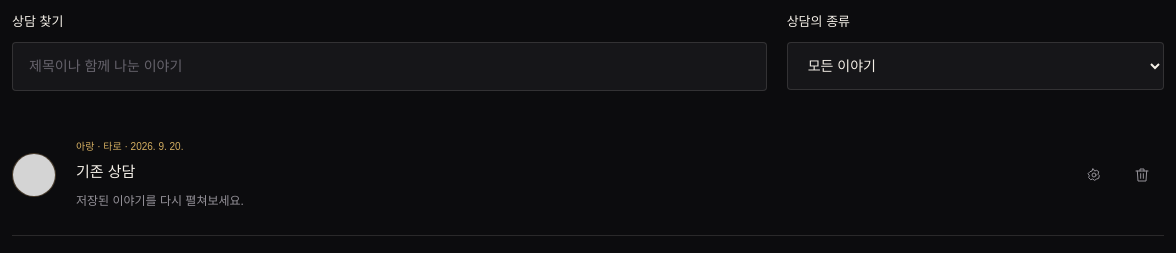
Scenario: paginated saved history › starts a fresh server search and type filter with no old cursor
Expected: the heading "기존 상담" is shown, [76,162,135,180]
Type "오래된_% 이야기" into the search field labelled "상담 찾기".
click(389, 66); type("오래된_% 이야기")  # box [12,42,767,90]
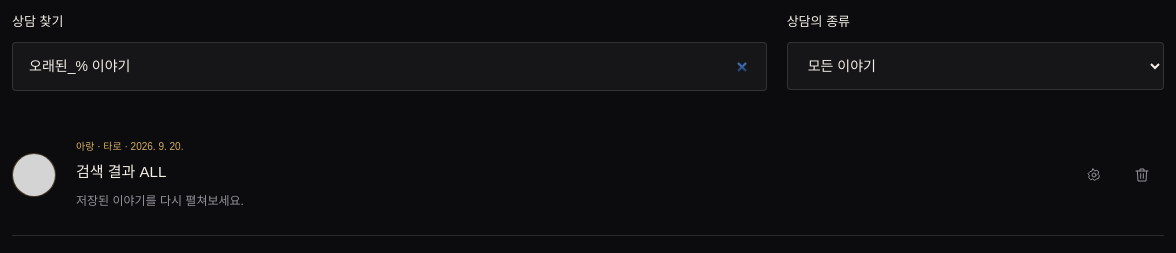
Result: the heading "검색 결과 ALL" is shown at [76,162,166,180]
Select "사주" in the dropdown labelled "상담의 종류" at (975, 66), box [787,42,1164,90]
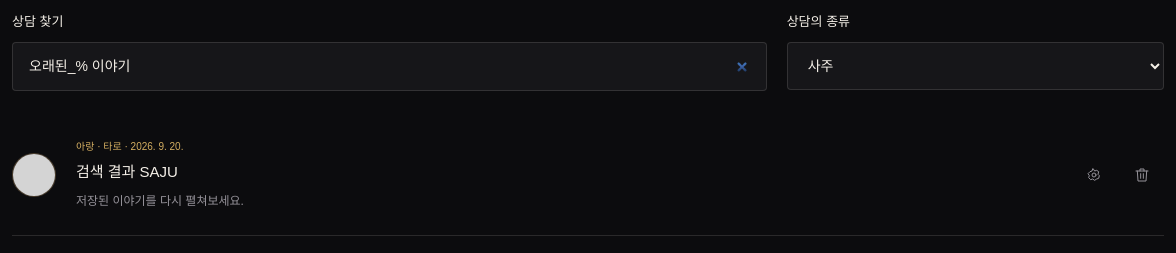
Expected: the link "기존 상담" is not shown
Result: the heading "검색 결과 SAJU" is shown at [76,162,178,180]
